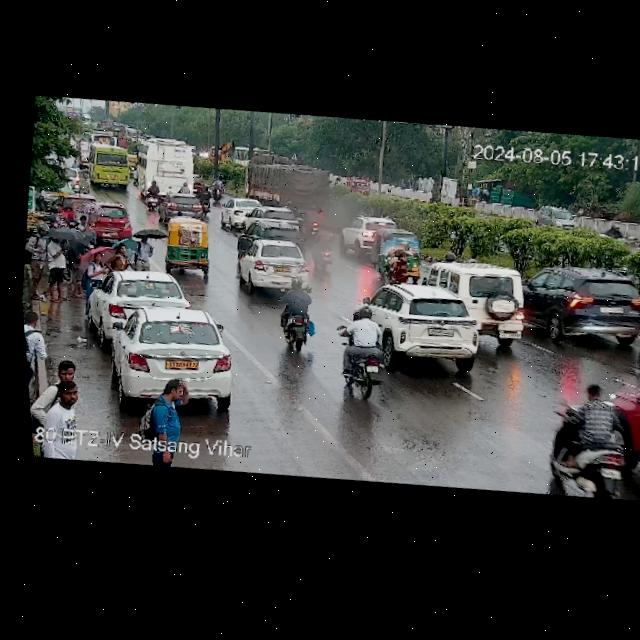bus: (126, 128, 206, 200), (82, 139, 138, 193), (82, 127, 120, 146)
car: (90, 296, 248, 416), (531, 378, 640, 507), (364, 270, 500, 370), (85, 261, 193, 339), (357, 273, 486, 338), (234, 234, 313, 297), (599, 364, 640, 474), (157, 213, 218, 277), (339, 208, 397, 261), (372, 225, 424, 278), (239, 201, 304, 241), (80, 200, 134, 244), (217, 193, 269, 233), (534, 201, 584, 233), (619, 320, 640, 386), (160, 191, 205, 221), (61, 165, 93, 197)
motorcycle: (326, 302, 403, 405), (269, 276, 325, 354), (386, 247, 414, 285), (141, 180, 164, 213), (208, 176, 228, 202), (199, 185, 214, 217), (633, 312, 640, 361), (179, 181, 190, 194)
person: (136, 372, 199, 471), (27, 355, 89, 432), (23, 305, 54, 434), (18, 224, 58, 304), (79, 249, 112, 318), (43, 233, 72, 300), (66, 242, 90, 298), (131, 233, 158, 271), (109, 243, 133, 273), (78, 215, 89, 226), (71, 159, 79, 168)
truck: (512, 253, 640, 355), (415, 251, 534, 349), (241, 152, 341, 218), (72, 139, 89, 166)
